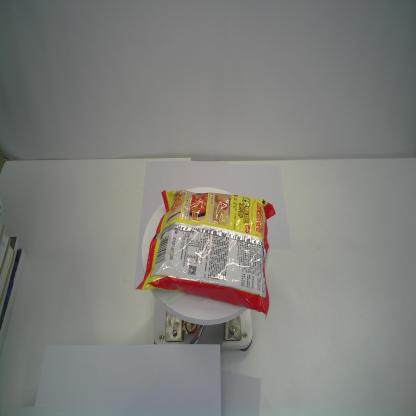Instant Noodles: (135, 186, 278, 322)
